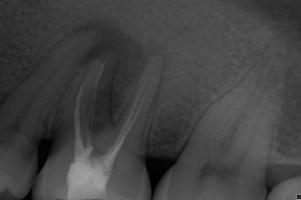Dental Caries: (73, 19, 170, 122)
